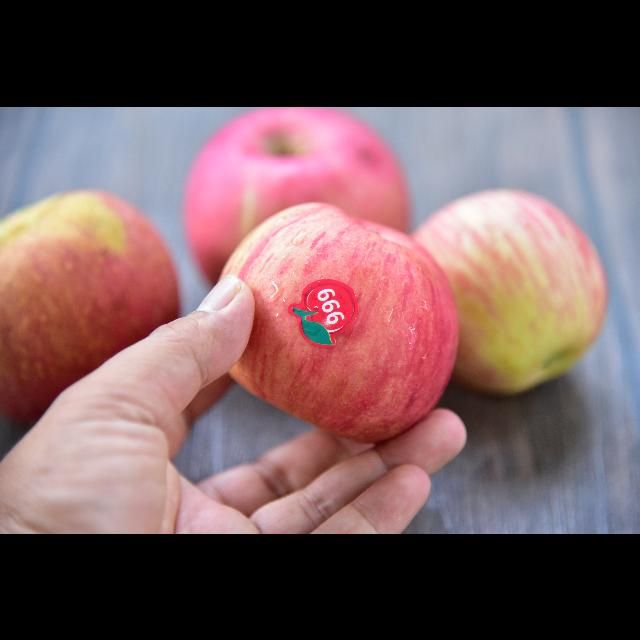Apel Segar: (208, 194, 474, 454), (1, 190, 203, 440), (420, 178, 632, 410), (178, 106, 420, 276)
